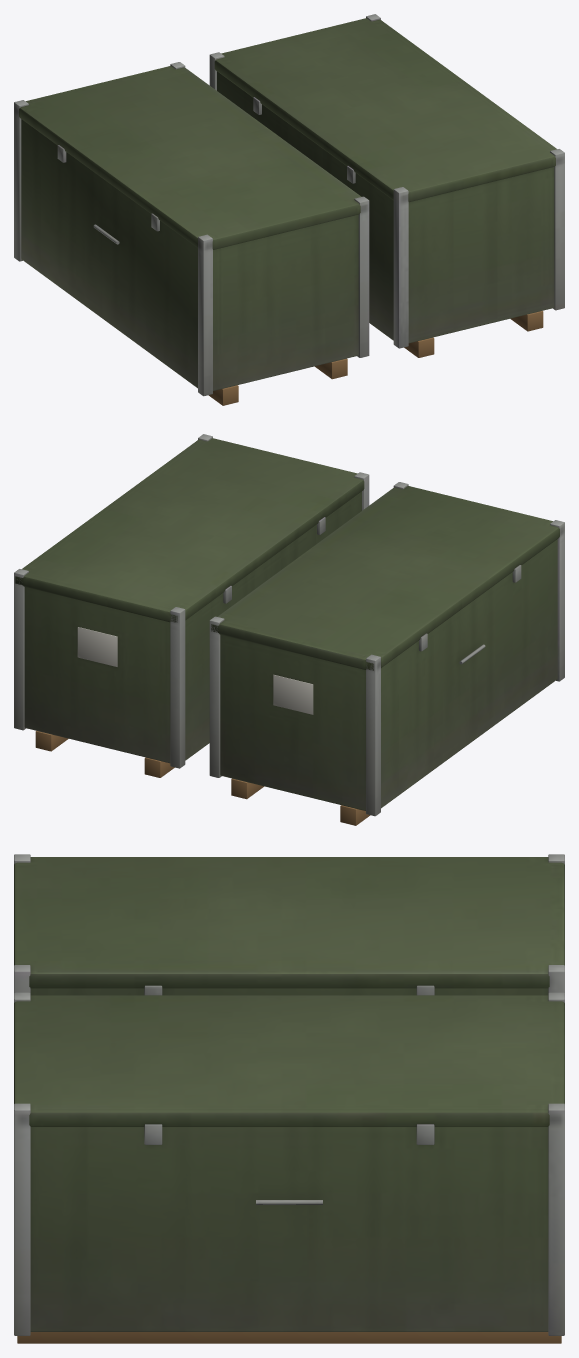
Rendered from series-4-stowed.glb.
3 views of the same model, one above another, from view 1: azimuth 30°, elevation 25°; view 2: azimuth 150°, elevation 25°; view 3: azimuth 270°, elevation 25° (orthographic). The views are drawn at different scales.
Parts seen in each view (by area): view 1: SERIES4_packed; view 2: SERIES4_packed; view 3: SERIES4_packed.
Boxes of the visible parts, left/top/right/bottom form: SERIES4_packed: left=14, top=14, right=564, bottom=405; SERIES4_packed: left=14, top=434, right=564, bottom=825; SERIES4_packed: left=14, top=854, right=564, bottom=1343.
Bounding box in the file's own units: 2.77 × 1.23 × 2.47.
4 materials, 2 textured.
